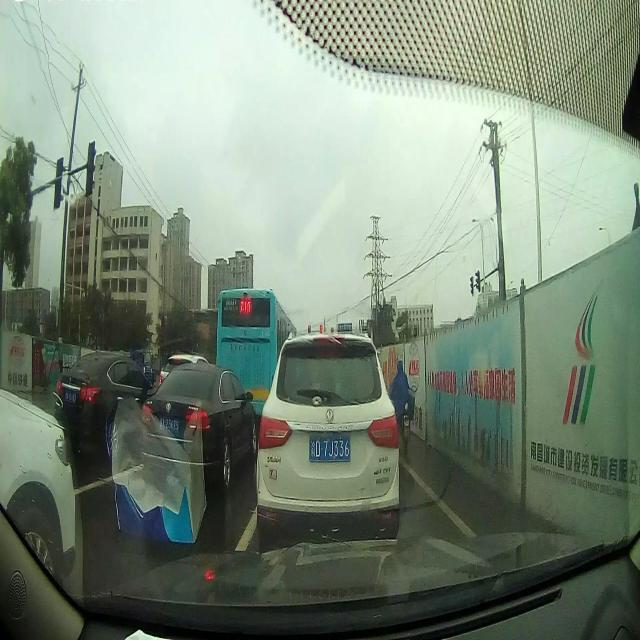car: (258, 336, 400, 555), (142, 358, 257, 490), (1, 390, 75, 587), (53, 344, 171, 451)
